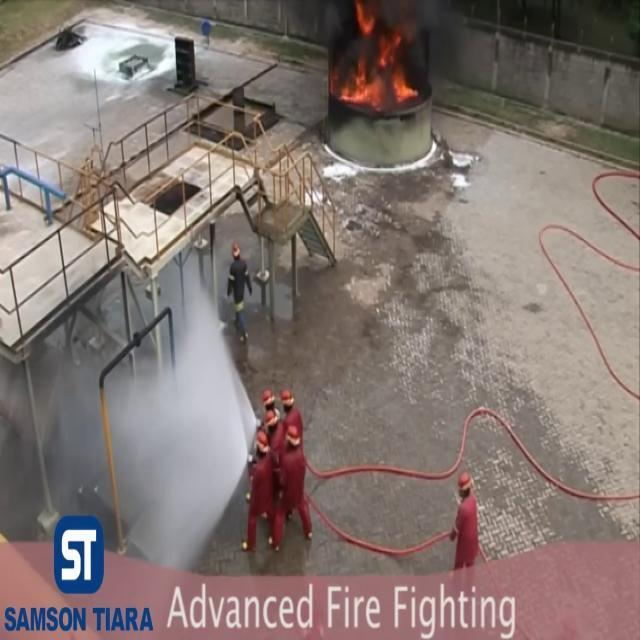Fire: (336, 0, 424, 120)
